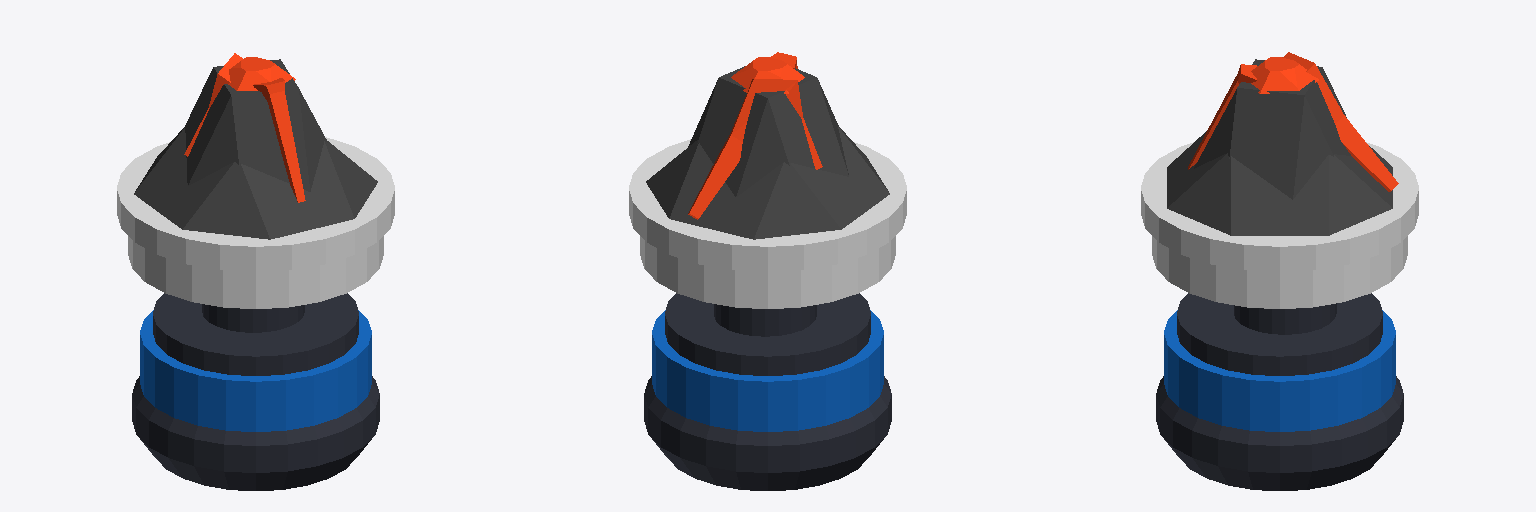
File: tower_volcano.obj
The picture shows the model from 3 angles: view 1: azimuth 30°, elevation 25°; view 2: azimuth 150°, elevation 25°; view 3: azimuth 270°, elevation 25°; orthographic projection.
Visible parts, largest first — view 1: mergedBlocks; view 2: mergedBlocks; view 3: mergedBlocks.
Boxes of the visible parts, x1=… form: mergedBlocks: x1=117, y1=53, x2=394, y2=490; mergedBlocks: x1=629, y1=52, x2=906, y2=490; mergedBlocks: x1=1141, y1=52, x2=1418, y2=490.
Size of the model in its own units: 1.08 by 1.64 by 1.08.